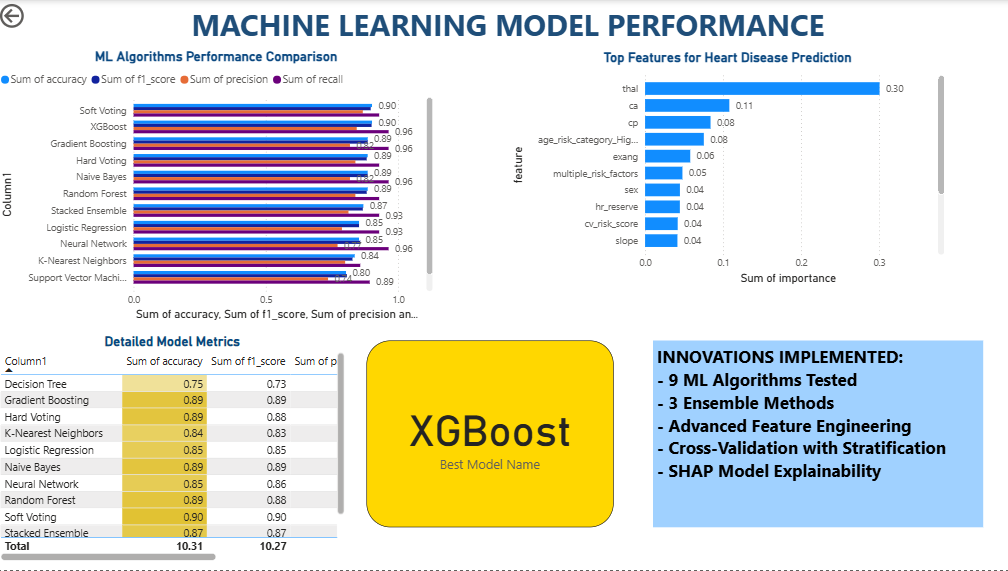

Layout of this report page (visuals, bound fields, positions):
{"tool":"powerbi","page":{"name":"ML Model Performance","canvas":[1280,720],"ordinal":2},"visuals":[{"type":"textbox","box":[9.9,0,1270.5,61.3],"z":0},{"type":"clusteredBarChart","title":"ML Algorithms Performance Comparison","fields":{"Category":["model_performance_results.Column1"],"Y":["Sum(model_performance_results.accuracy)","Sum(model_performance_results.f1_score)","Sum(model_performance_results.precision)","Sum(model_performance_results.recall)"]},"box":[0,61.3,554.9,347.9],"z":1000},{"type":"clusteredBarChart","title":"Top Features for Heart Disease Prediction","fields":{"Category":["feature_importance_results.feature"],"Y":["Sum(feature_importance_results.importance)"]},"box":[645,61.7,555,300],"z":2000},{"type":"tableEx","title":"Detailed Model Metrics","fields":{"Values":["model_performance_results.Column1","Sum(model_performance_results.accuracy)","Sum(model_performance_results.f1_score)","Sum(model_performance_results.precision)","Sum(model_performance_results.recall)","Sum(model_performance_results.roc_auc)"]},"box":[0,419.1,443.9,291.5],"z":3000},{"type":"actionButton","box":[0,0,100,40],"z":4000},{"type":"card","fields":{"Values":["model_performance_results.Best Model Name"]},"box":[467.1,429,311.4,235.2],"z":5000},{"type":"textbox","box":[828.2,429,415.8,235.2],"z":6000}]}

Visuals, with their boxes in screenshot pixels (x1, y1, x2, y2), scaled from the page's 1280x720 canvas onto the 1008x571 screenshot:
textbox: [8, 0, 1007, 49]
"ML Algorithms Performance Comparison" clusteredBarChart: [0, 49, 437, 325]
"Top Features for Heart Disease Prediction" clusteredBarChart: [508, 49, 945, 287]
"Detailed Model Metrics" tableEx: [0, 332, 350, 564]
actionButton: [0, 0, 79, 32]
card - model_performance_results.Best Model Name: [368, 340, 613, 527]
textbox: [652, 340, 980, 527]
